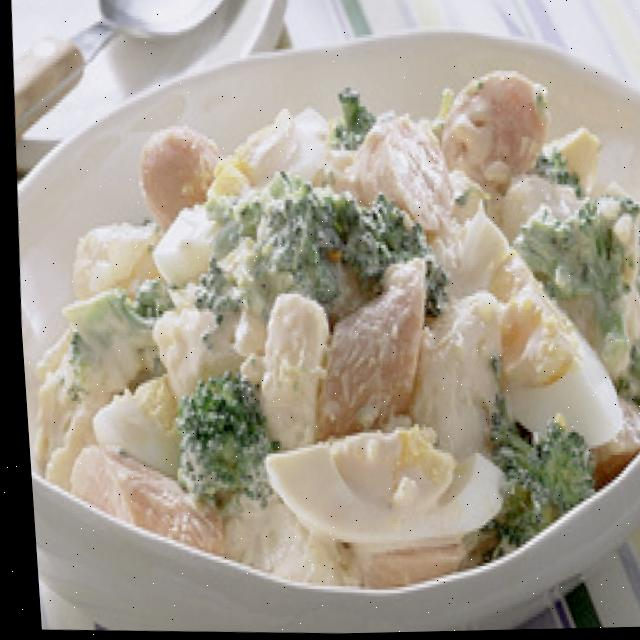蔬菜料理: (1, 3, 640, 622)
